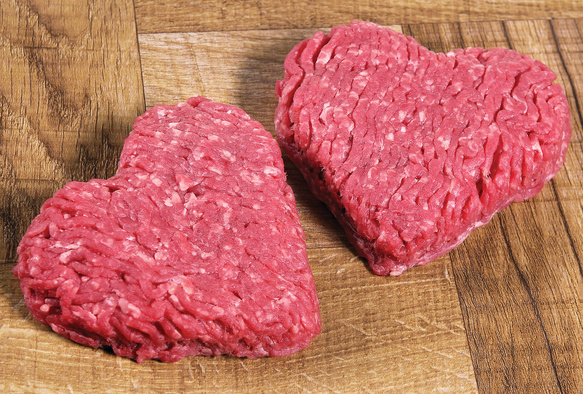ground_beef: (15, 89, 349, 369), (278, 20, 554, 272)
